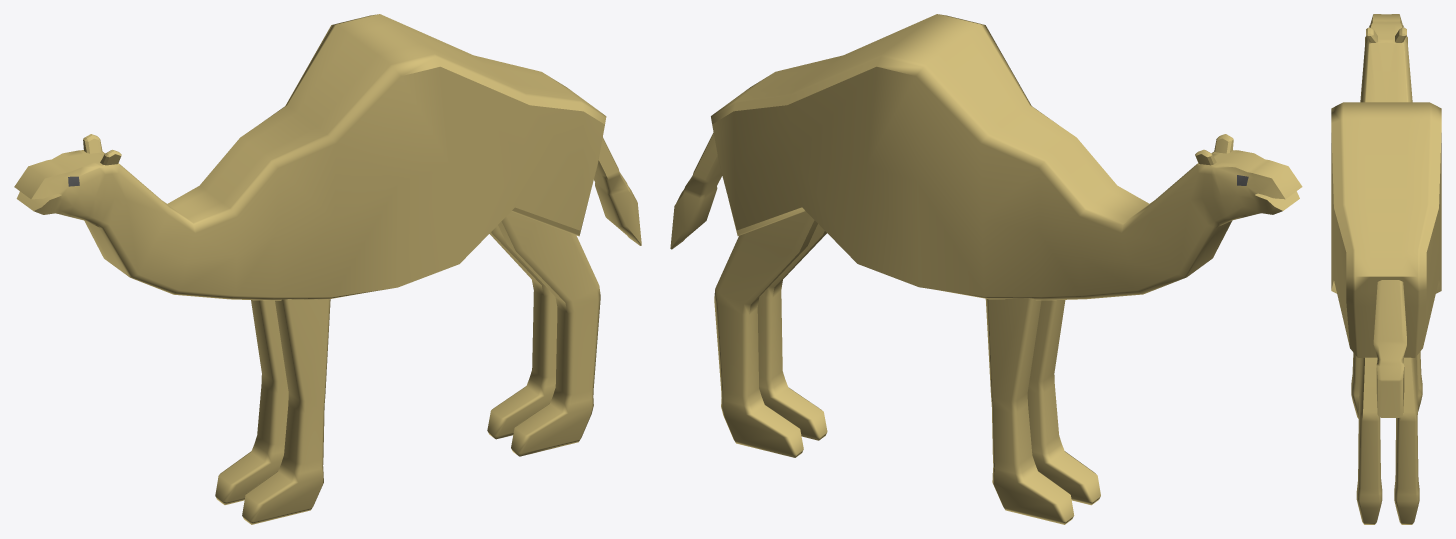
The model's file is CamelGeo.fbx.
The picture shows the model from 3 angles, left to right: view 1: azimuth 30°, elevation 25°; view 2: azimuth 150°, elevation 25°; view 3: azimuth 270°, elevation 25°; orthographic projection. The views are drawn at different scales.
Visible parts, largest first — view 1: CamelGeo; view 2: CamelGeo; view 3: CamelGeo.
Part boxes in pixels (bbox=[...]): CamelGeo: bbox=[14, 14, 641, 524]; CamelGeo: bbox=[670, 14, 1302, 524]; CamelGeo: bbox=[1331, 14, 1441, 524].
Size of the model in its own units: 641 by 435 by 126.
